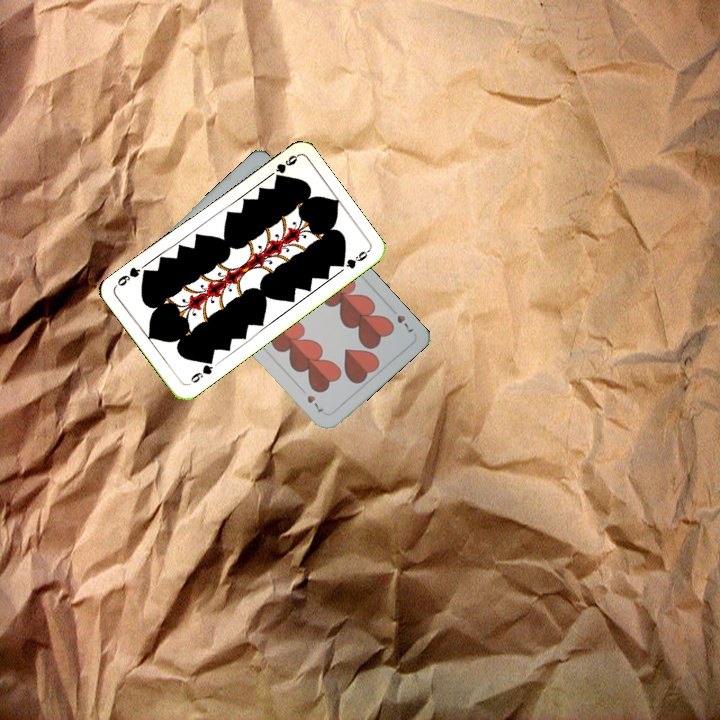G9: (187, 355, 216, 386), (271, 151, 300, 181)
H7: (385, 303, 417, 335)
